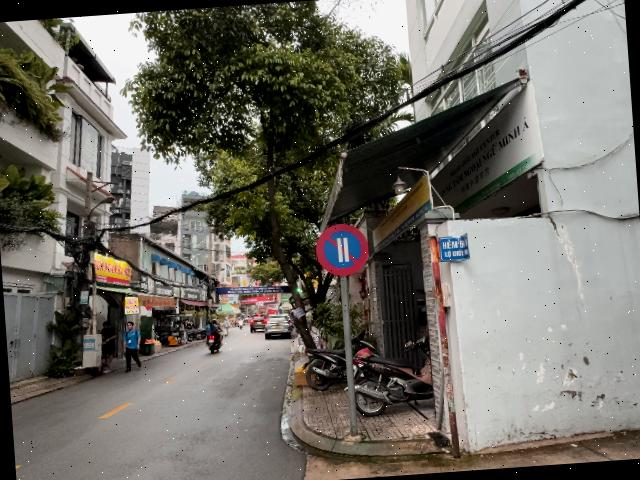cam-do-xe-ngay-chan: (313, 222, 370, 278)
